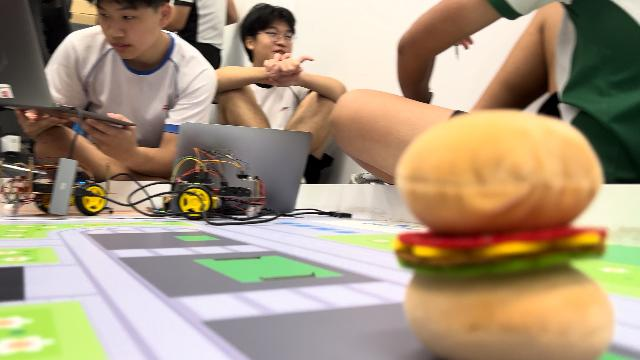burger: (390, 106, 618, 358)
